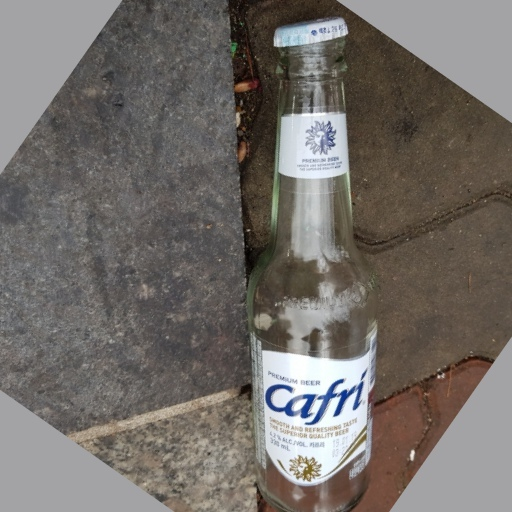Glass_1: (240, 16, 381, 510)
